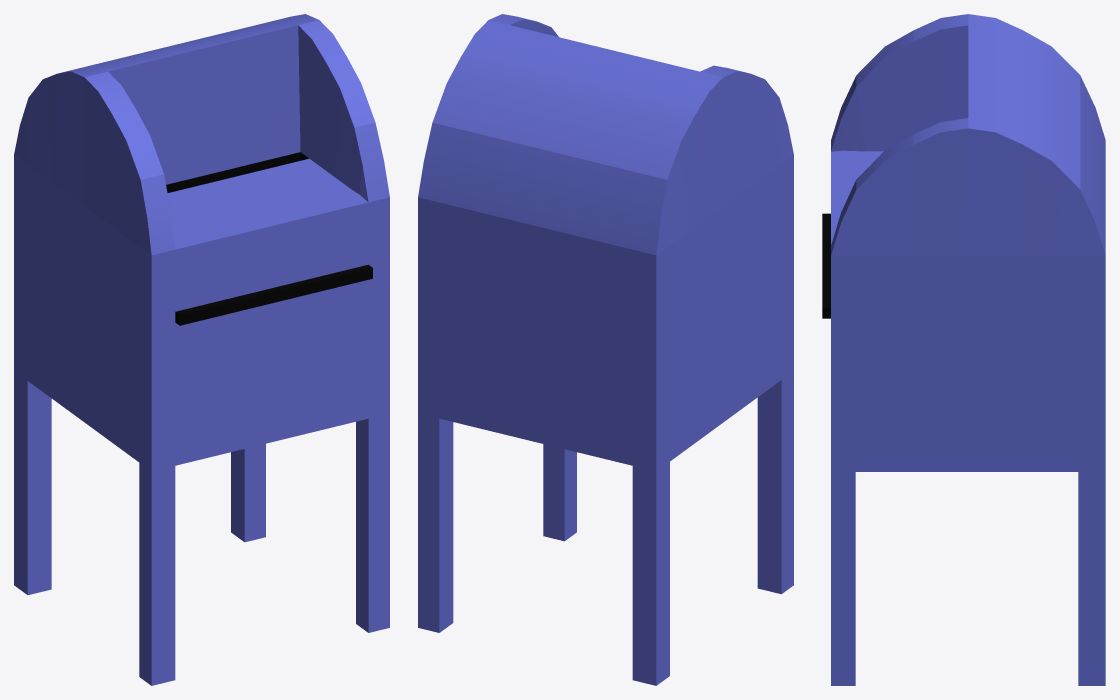
File: Mailbox.fbx
3 views of the same model, side by side, from view 1: azimuth 30°, elevation 25°; view 2: azimuth 150°, elevation 25°; view 3: azimuth 270°, elevation 25° (orthographic).
Visible parts, largest first — view 1: pCube2; view 2: pCube2; view 3: pCube2.
Part boxes in pixels (<box>): pCube2: <box>14,14,389,685</box>; pCube2: <box>418,14,793,685</box>; pCube2: <box>822,14,1105,685</box>.
Size of the model in its own units: 29.02 by 64.89 by 29.94.
